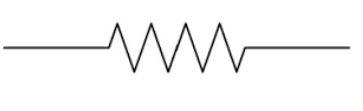resistor: (88, 12, 265, 88)
